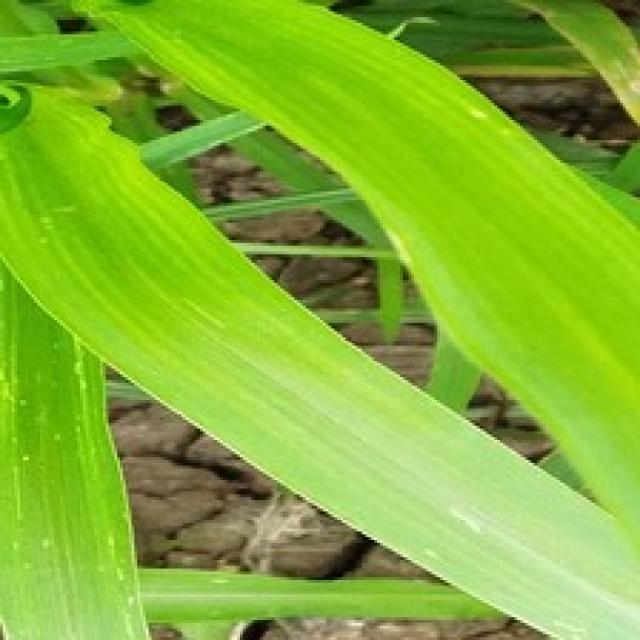Corn: (0, 0, 637, 637), (0, 0, 160, 637)
